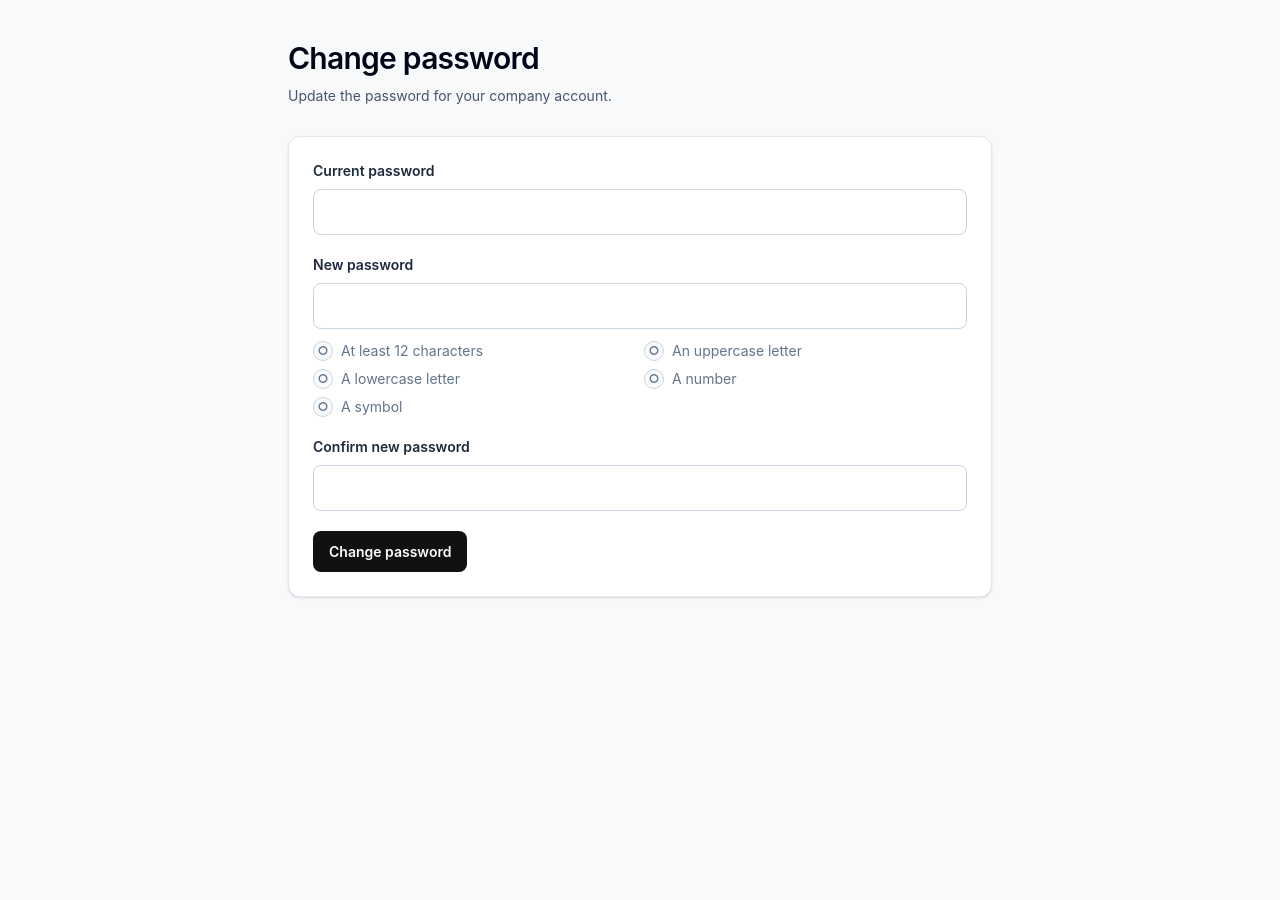
it: CompanyAccountView › lets the company account holder change their password and confirms the result
In the password field with id "company-current-password": (640, 212) [313,189,967,235], type "CurrentPassword1!"
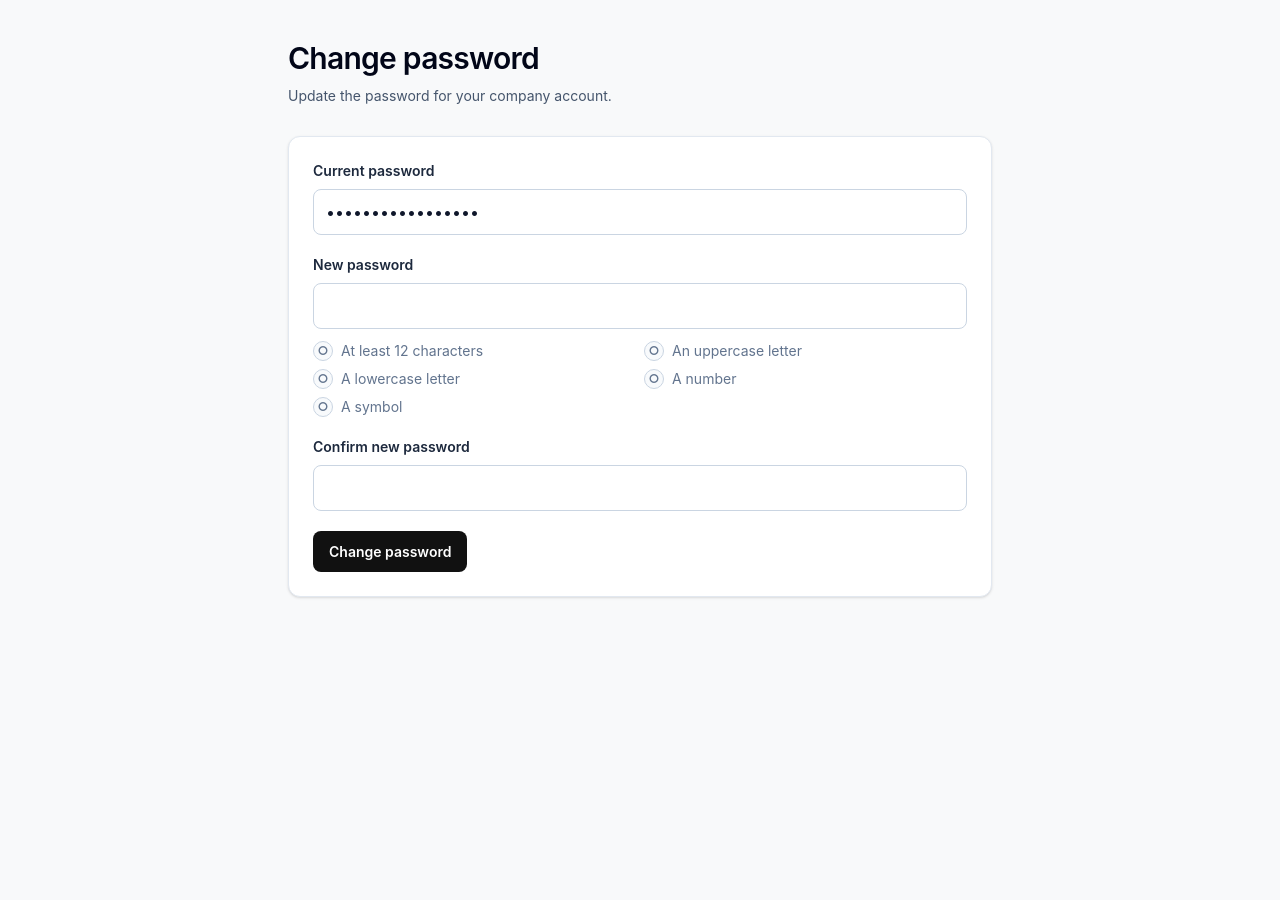
In the password field with id "company-new-password": (640, 306) [313,283,967,329], type "NewCompanyPassword2!"
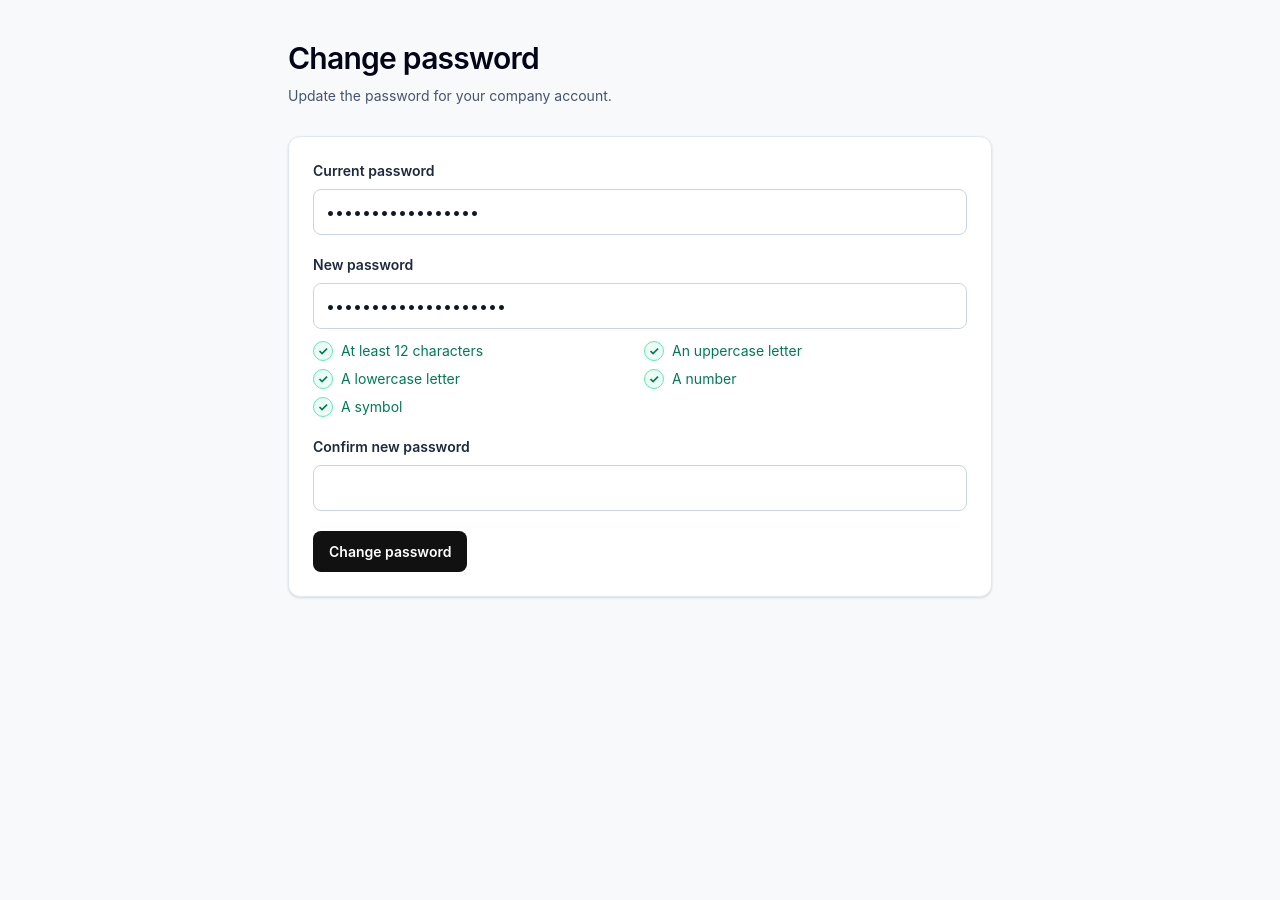
In the password field with id "company-password-confirmation": (640, 488) [313,465,967,511], type "NewCompanyPassword2!"
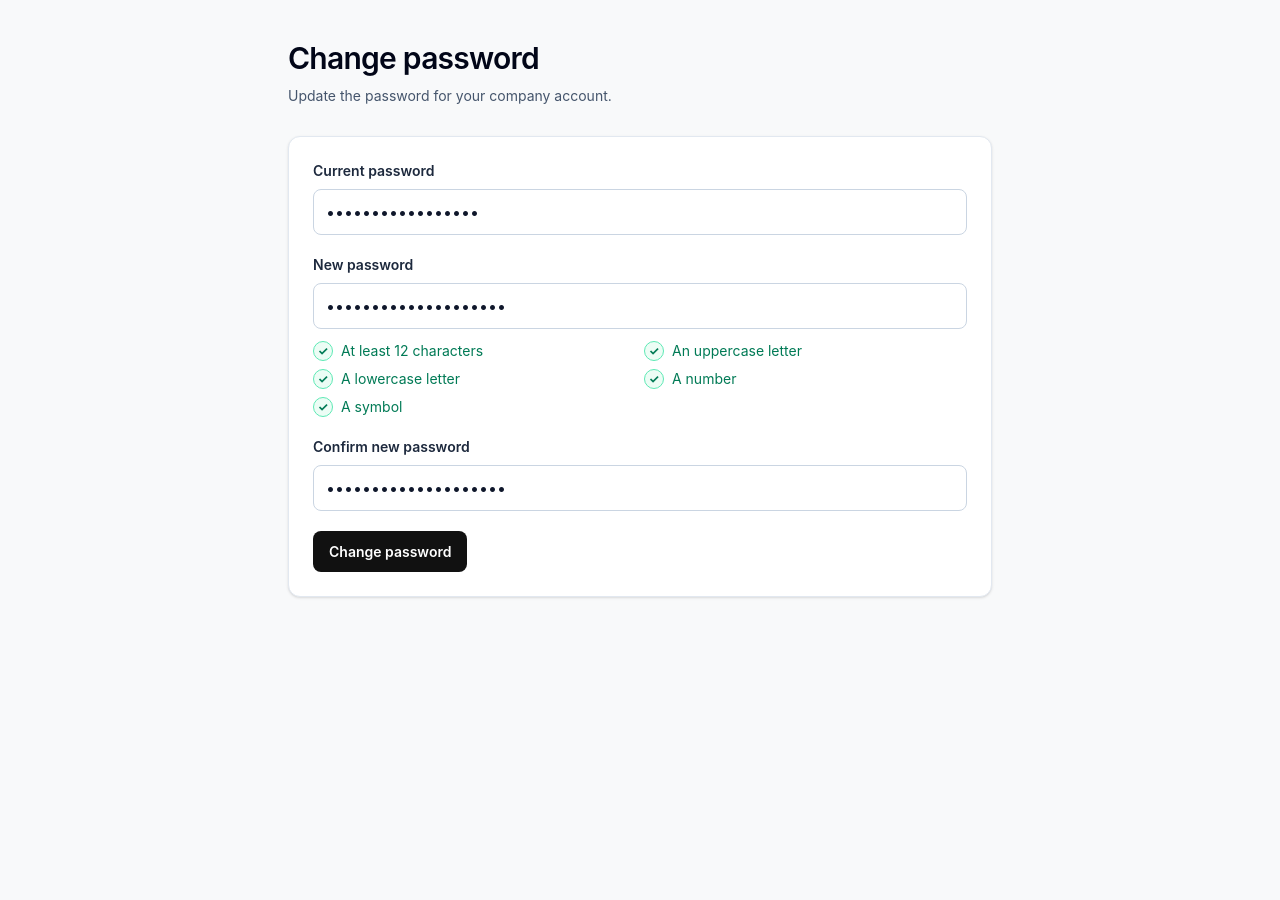
Submit the form with test id "company-password-form", box [288,136,992,597]
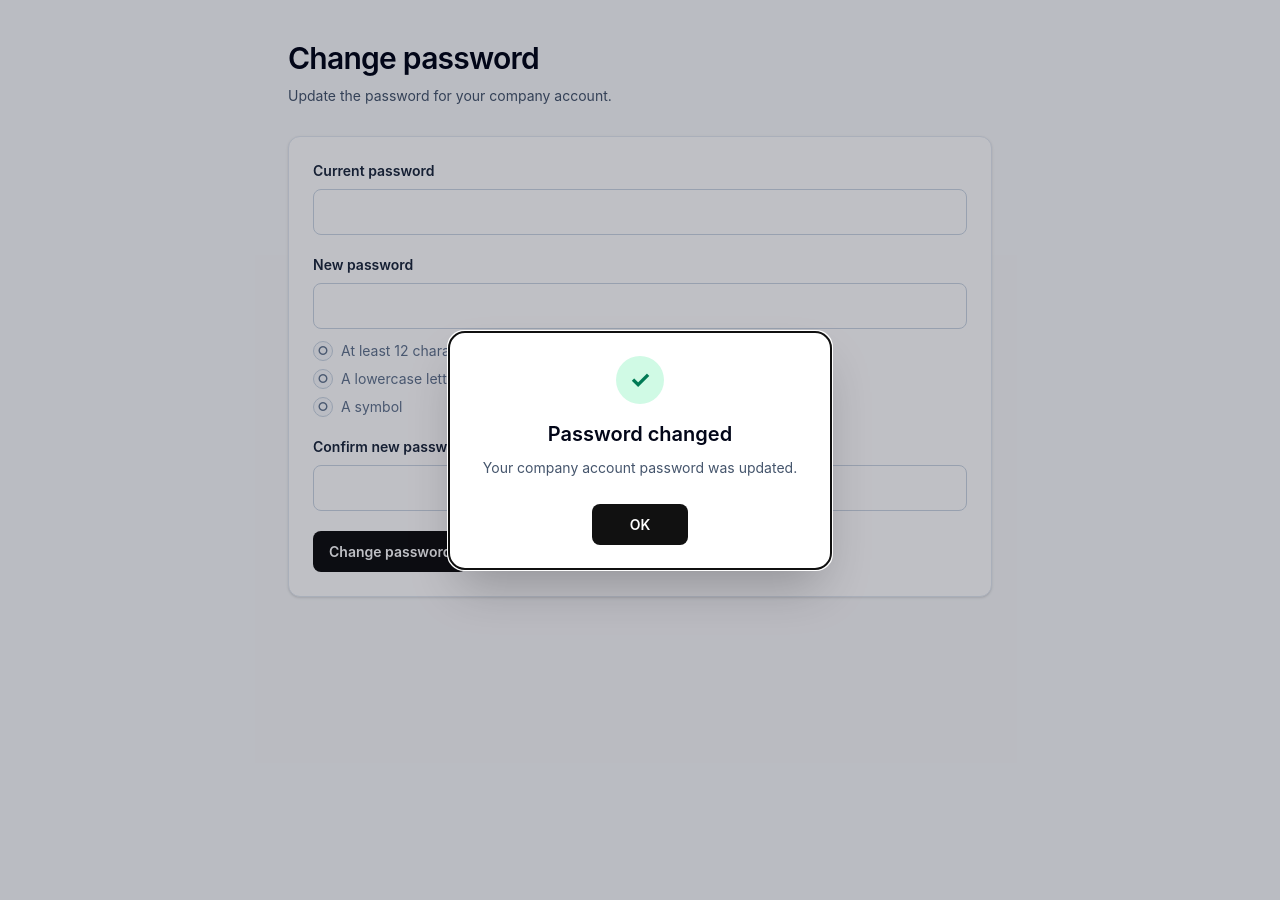
Expected: the text "Password changed" is shown, [548,422,732,446]
